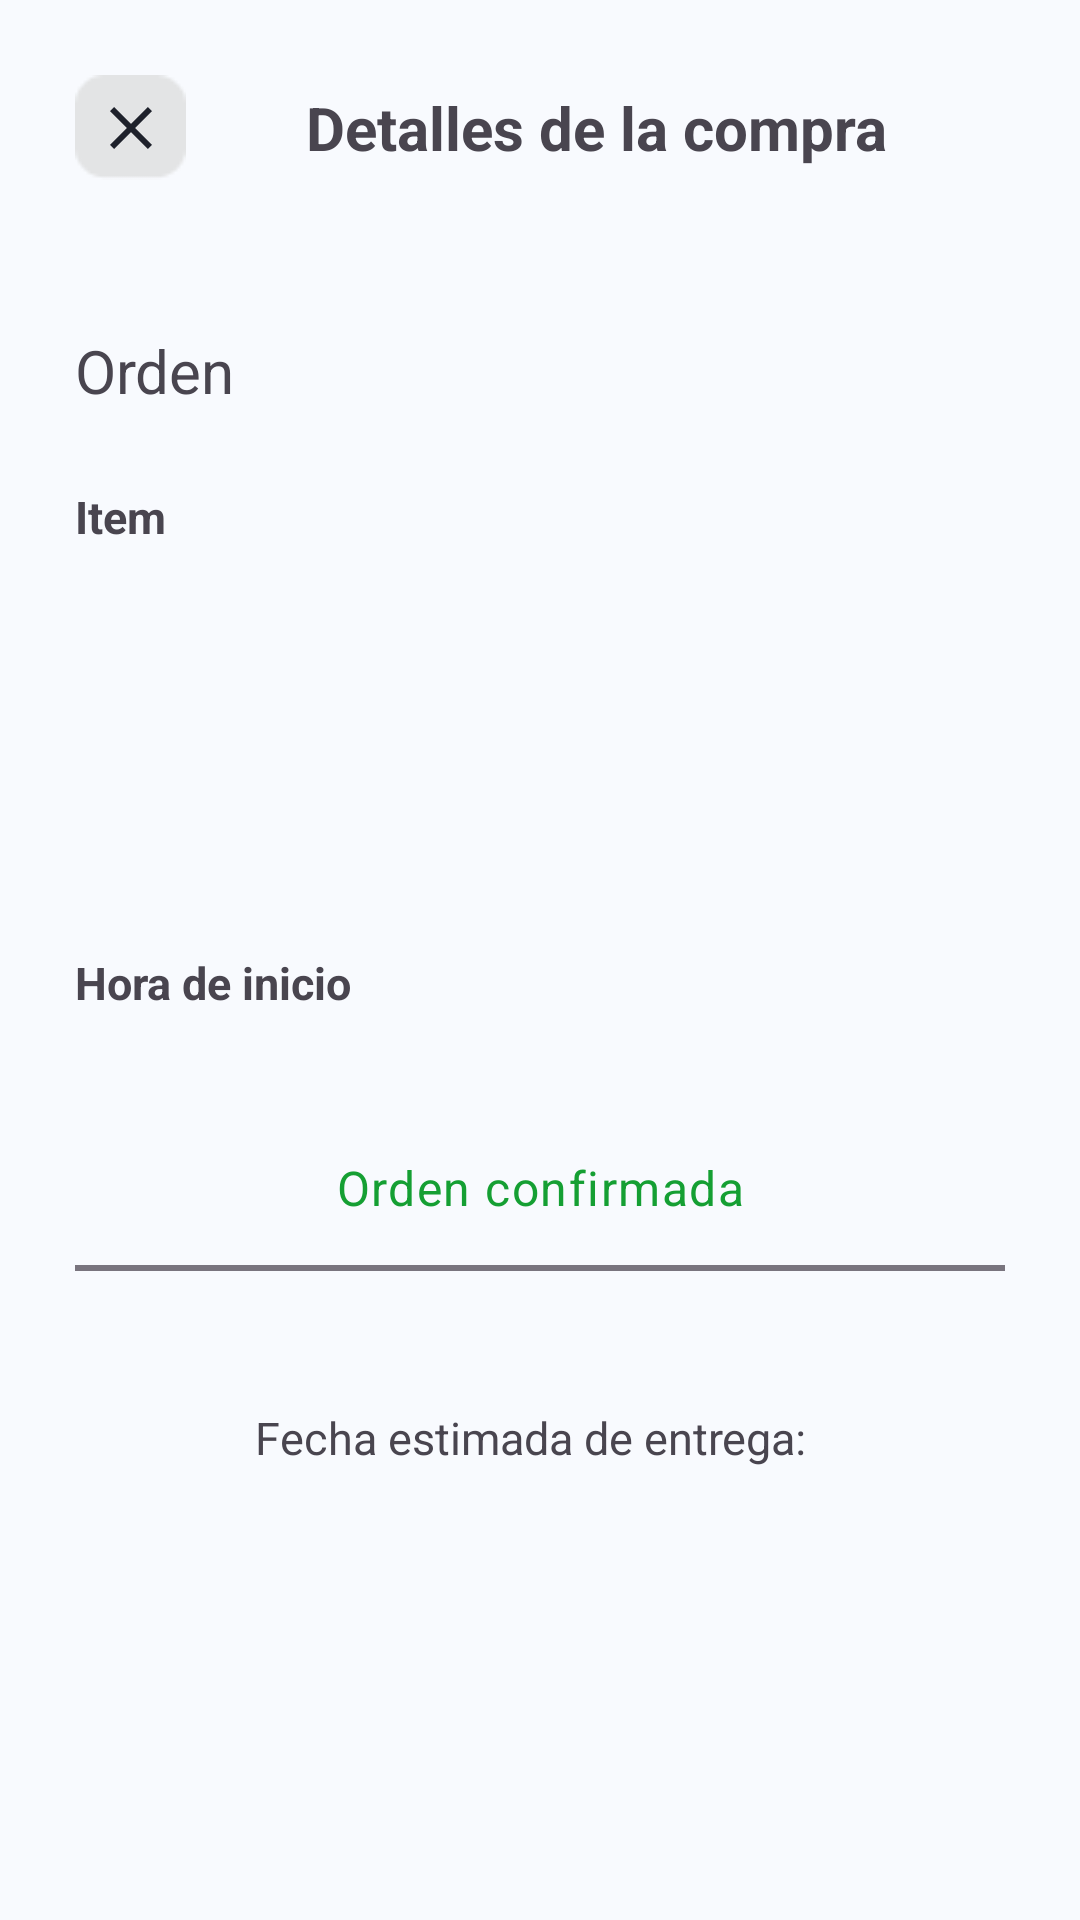

Named icons in this screenshot (1080 × 1920) and their centers, [x,y]:
close: [130,125]
